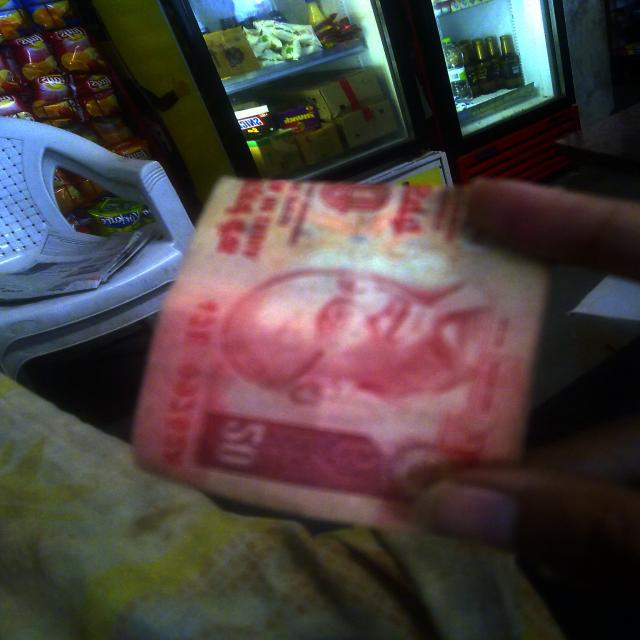200rs: (105, 170, 573, 532)
